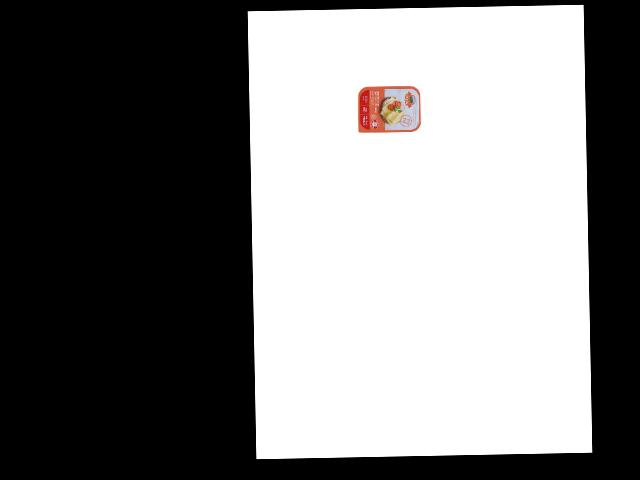cheese: (353, 82, 422, 134)
